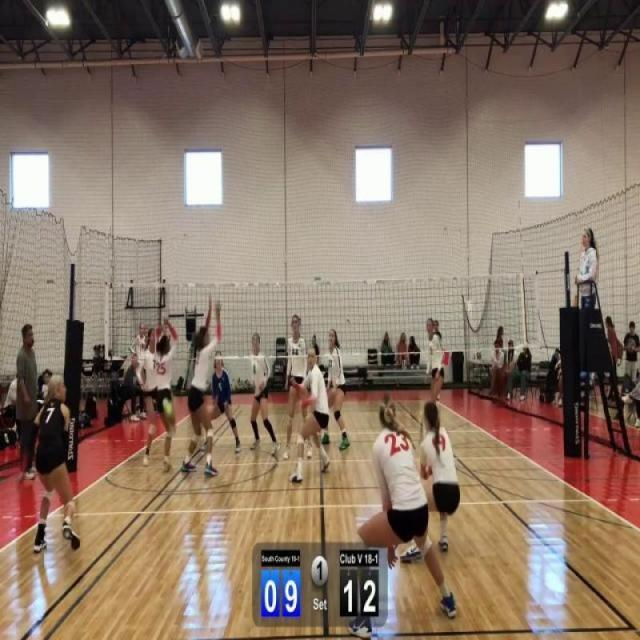volleyball: (418, 420, 428, 448)
